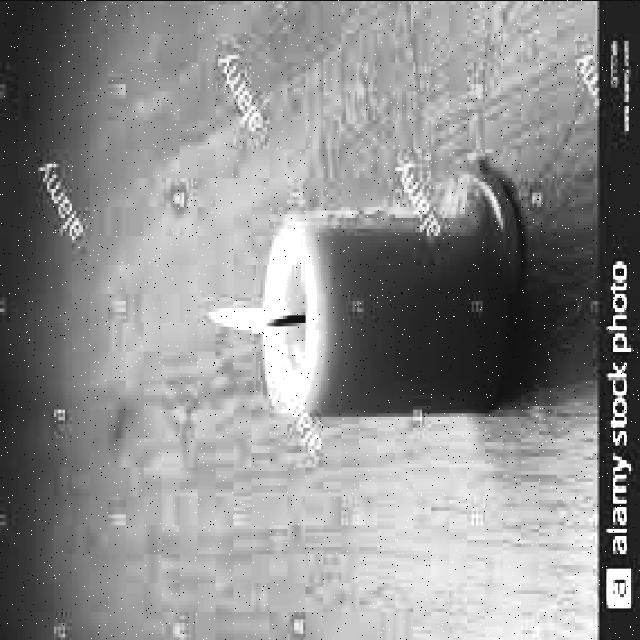api: (206, 305, 278, 349)
